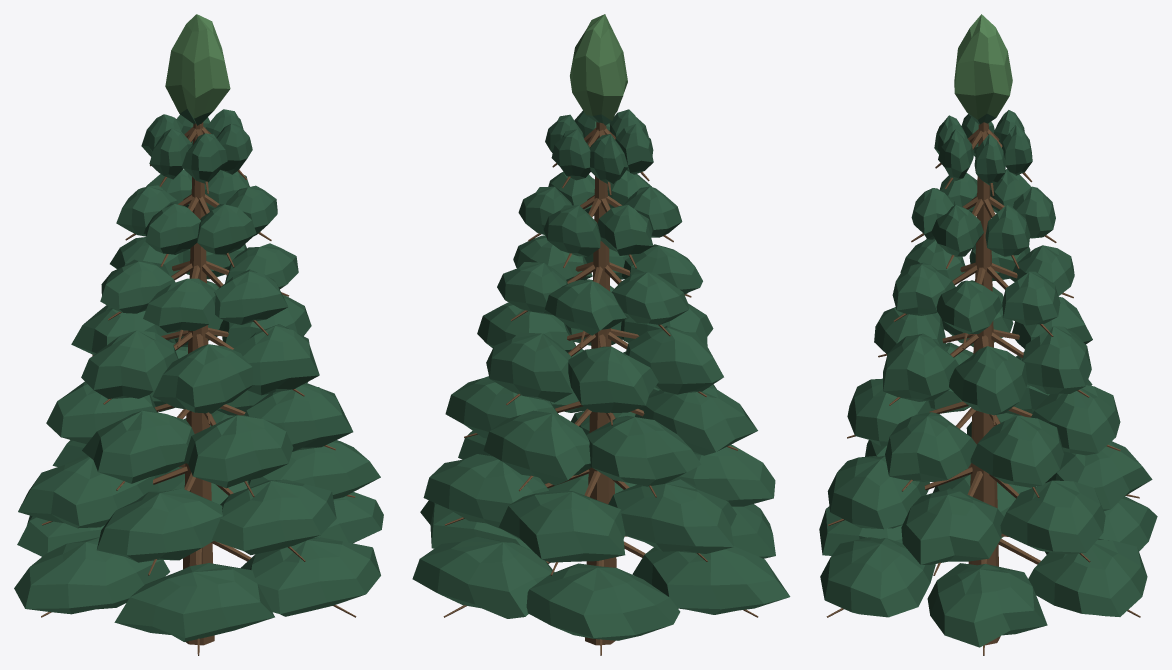
File: b08_blue_spruce.glb
3 renders of one model, left to right at view 1: azimuth 30°, elevation 25°; view 2: azimuth 150°, elevation 25°; view 3: azimuth 270°, elevation 25°, orthographic.
Parts seen in each view (by area): view 1: b08_blue_spruce; view 2: b08_blue_spruce; view 3: b08_blue_spruce.
Part boxes in pixels (x1,y1,x2,y2): b08_blue_spruce: [14, 14, 383, 655]; b08_blue_spruce: [412, 14, 790, 655]; b08_blue_spruce: [819, 14, 1157, 655].
Bounding box in the file's own units: 3.39 × 5.55 × 2.73.
